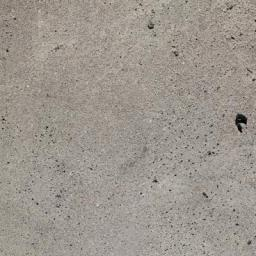FOD: (232, 112, 252, 135)
